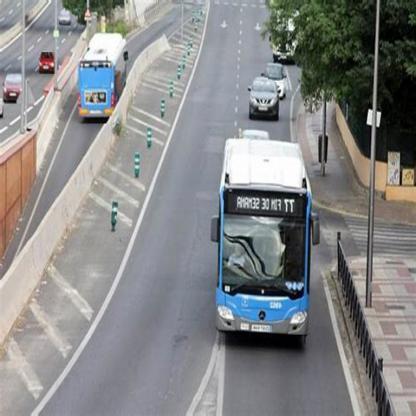bus: (218, 142, 316, 337), (79, 34, 127, 126)
car: (252, 81, 279, 121), (5, 72, 24, 106), (40, 53, 57, 76), (269, 63, 287, 84), (60, 11, 73, 26)
